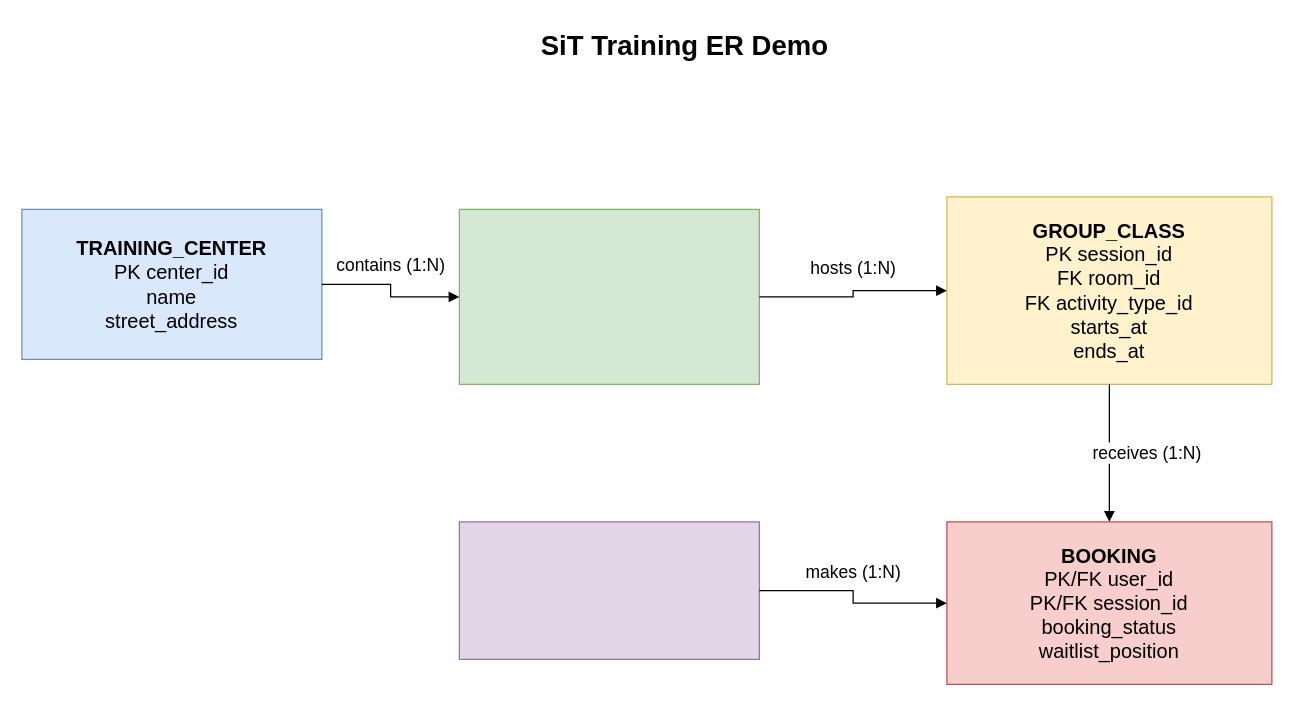
Some shapes in this 1294 by 706 pixel diagram are drawn without their labels. The shapes that lost their labels are listed below. From the top down, each one's centre as x and y in pixels, then its label:
At pixel 608 296: "ROOM PK room_id FK center_id room_name capacity".
At pixel 608 590: "APP_USER PK user_id email mobile".
